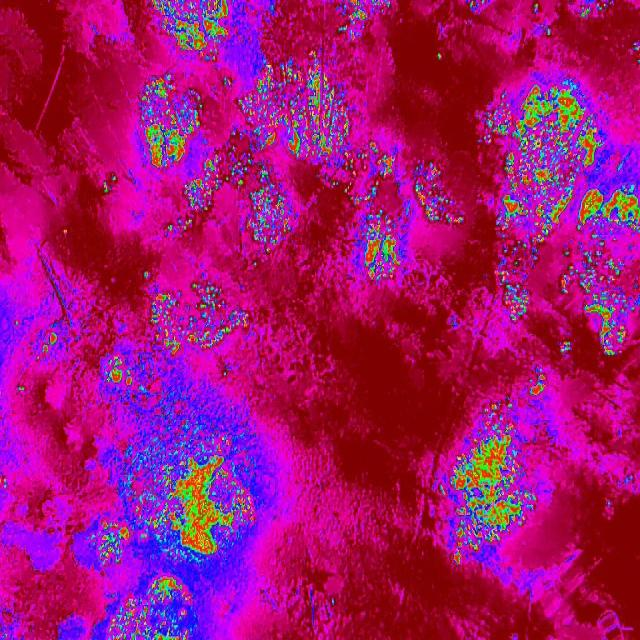fire: (94, 421, 260, 572), (475, 80, 607, 229), (436, 399, 536, 569), (238, 52, 356, 168), (150, 280, 248, 360), (132, 74, 206, 167), (106, 576, 200, 640), (147, 0, 236, 62), (495, 229, 551, 325), (412, 158, 464, 231), (249, 169, 292, 255), (562, 242, 626, 296), (585, 298, 640, 360), (357, 211, 402, 281), (182, 167, 248, 211), (606, 144, 638, 230), (138, 384, 194, 420), (358, 138, 395, 180), (207, 126, 240, 169), (332, 0, 368, 39), (342, 179, 381, 206), (574, 0, 615, 20), (105, 356, 132, 386), (526, 363, 546, 398), (38, 332, 60, 358), (166, 217, 193, 235), (102, 171, 119, 194), (369, 0, 392, 16), (588, 228, 612, 242), (558, 338, 574, 358), (464, 0, 486, 14), (622, 471, 636, 487), (632, 39, 640, 65), (220, 76, 234, 90), (0, 470, 9, 490), (328, 596, 338, 610), (531, 0, 540, 15), (542, 27, 554, 38), (329, 178, 340, 190), (140, 269, 150, 280), (16, 385, 27, 393), (605, 498, 612, 509), (13, 320, 21, 329), (62, 226, 68, 238), (436, 52, 443, 58), (222, 371, 228, 378), (252, 260, 259, 266)
